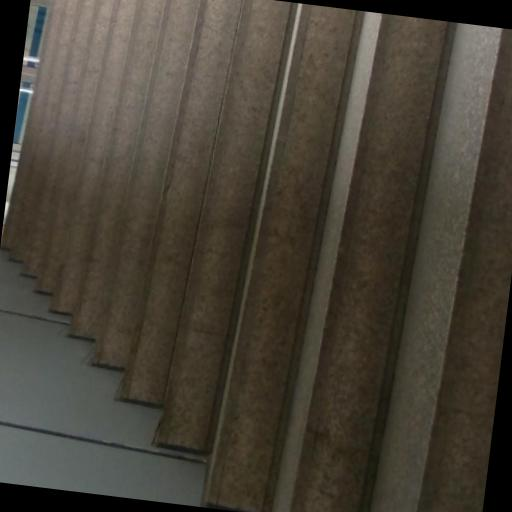stairs: (4, 0, 511, 511)
